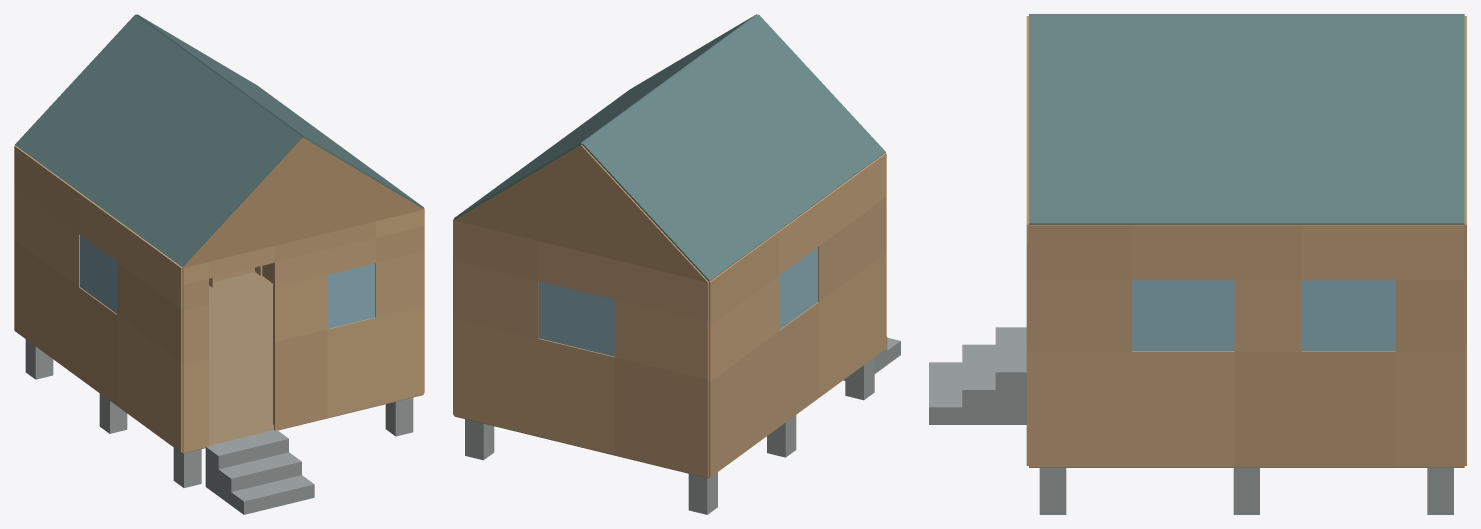
File: cabin.glb
3 views of the same model, side by side, from view 1: azimuth 30°, elevation 25°; view 2: azimuth 150°, elevation 25°; view 3: azimuth 270°, elevation 25° (orthographic). The views are drawn at different scales.
Visible parts, largest first — view 1: south-gable, left-roof-048, left-roof-049, left-roof-050, left-roof-051, west-panel-045, west-panel-040, south-panel-006, south-panel-010, south-panel-013, west-panel-041, west-panel-046 (+35 smaller); view 2: north-gable, left-roof-050, left-roof-051, left-roof-048, left-roof-049, north-panel-023, north-panel-018, north-panel-021, west-panel-040, west-panel-045, north-panel-024, north-panel-019 (+19 smaller); view 3: right-roof-052, right-roof-054, right-roof-053, right-roof-055, east-panel-027, east-panel-030, east-panel-035, east-panel-037, east-panel-032, east-panel-028, east-glazing-03, east-glazing-04 (+15 smaller).
Boxes of the visible parts, x1,y1,x2,y2 form: south-gable: (182,138,423,267); left-roof-048: (98,140,242,267); left-roof-049: (158,75,302,202); left-roof-050: (15,80,157,205); left-roof-051: (75,14,218,140); west-panel-045: (117,315,182,452); west-panel-040: (14,240,78,377); south-panel-006: (274,329,327,430); south-panel-010: (327,317,375,417); south-panel-013: (376,306,423,405); west-panel-041: (14,187,79,287); west-panel-046: (117,262,182,361); north-gable: (454,144,708,282); left-roof-050: (645,148,797,281); left-roof-051: (582,79,734,212); left-roof-048: (734,83,885,216); left-roof-049: (671,14,821,147); north-panel-023: (614,357,708,477); north-panel-018: (453,318,538,436); north-panel-021: (538,338,614,454); west-panel-040: (709,332,778,477); west-panel-045: (819,253,886,397); north-panel-024: (614,300,708,379); north-panel-019: (453,260,538,338); right-roof-052: (1029,119,1246,224); right-roof-054: (1247,119,1464,224); right-roof-053: (1029,15,1246,119); right-roof-055: (1247,15,1464,119); east-panel-027: (1029,351,1131,466); east-panel-030: (1132,351,1234,466); east-panel-035: (1301,351,1395,466); east-panel-037: (1395,351,1464,466); east-panel-032: (1234,351,1301,466); east-panel-028: (1029,280,1131,351); east-glazing-03: (1132,280,1234,350); east-glazing-04: (1301,280,1395,350).
Size of the model in its own units: 3.04 by 3.89 by 4.44.
